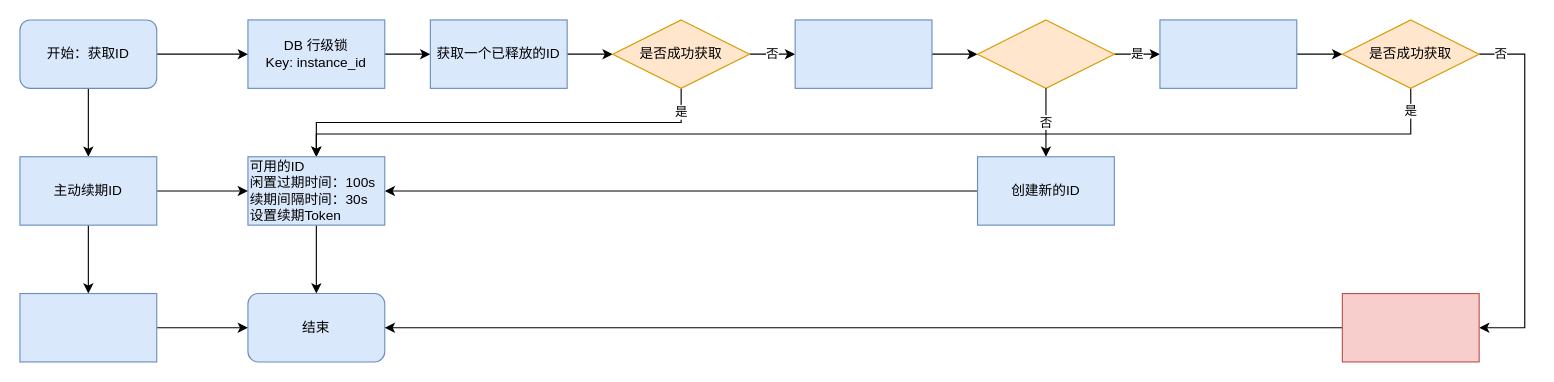
Image size: 1554x382. Some labels were removed from this diagram. The shapes that lost their labels are listed below. From the top down, each one's centre as x and y in pixels, then its label:
the point at 863,53: 实例化新的ID
the point at 1045,53: 是否达到ID上限
the point at 1228,53: 获取一个空闲的ID
the point at 88,327: 主动释放ID
the point at 1410,327: 错误：已无可用ID
